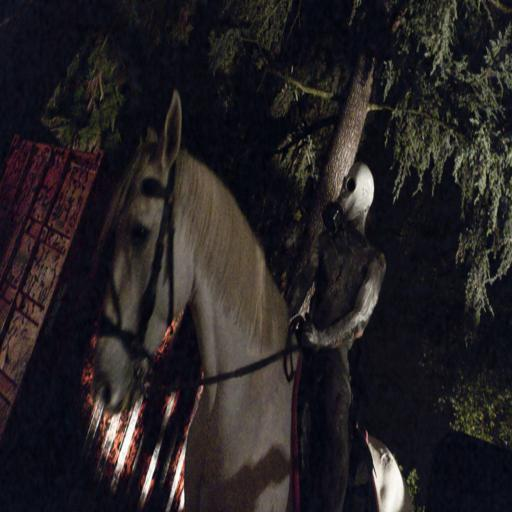horse: (88, 88, 416, 511)
